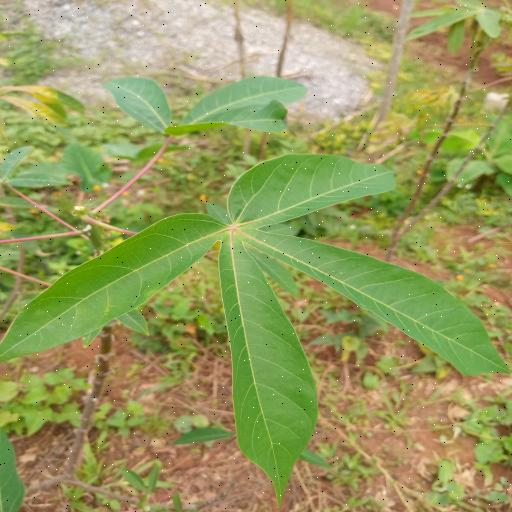Cassava_Healthy: (0, 148, 507, 479)
